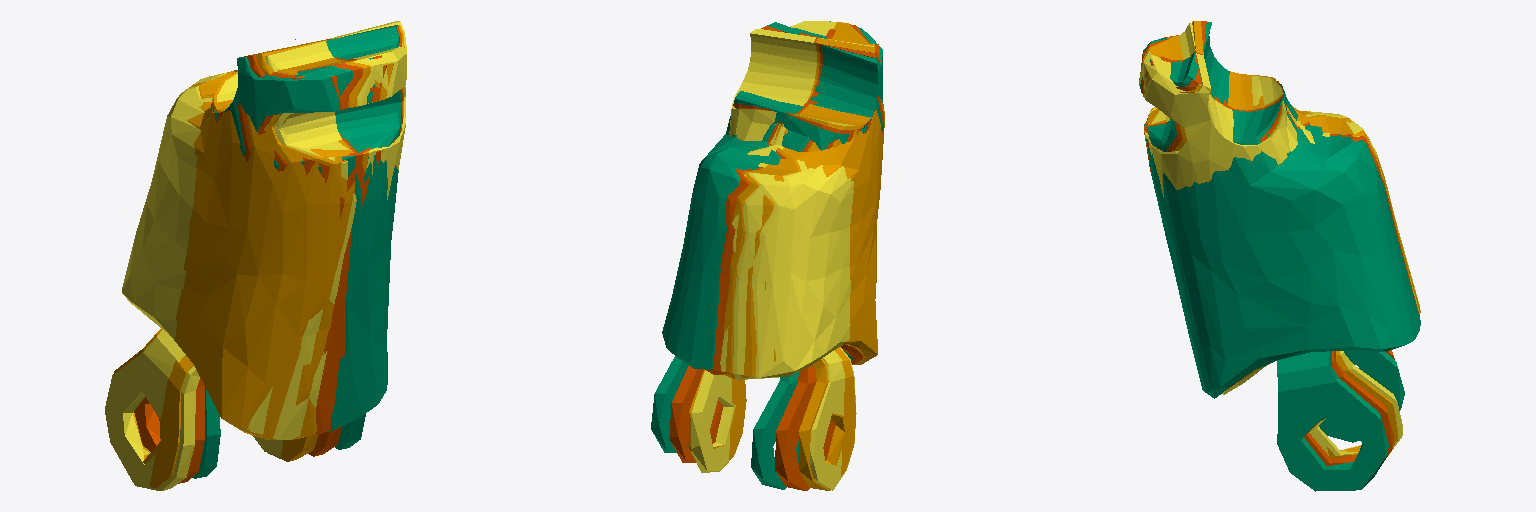
robot.urdf — ability_hand:
<!--
	NOTES:
	Units:
		Distance: m
		Angles: rad (only option)
		Mass: kg
		Inertia: kg*m^2
		
	Notes on intertia:
		-The inertias are calculated for uniform density with weights that may or may not be accurate.
		At the time of this writing only the thumb flexor weight is correct. The palm is a 'best guess' 
		approximation and the fingers are likely off by an order of magnitude
	
	Notes on finger q2:
		-The hand is a 4 bar linkage mechanism forming an 'X'. 4 bar linkages are not supported in the 
		urdf format. The motion of the second finger joint is fully defined by the motion of the first 
		finger joint. The calculation to find the index finger second joint angle given the first is provided
		in a matlab script elsewhere in this repository.
-->
<robot name="ability_hand">


	<link name="base">
		<visual name="wrist_mesh">
			<origin rpy = "0 0 0" xyz = "0 0 0"/>
			<geometry>
				<mesh filename="models/wristmesh.STL"/>
			</geometry>
		</visual>		
		<inertial>	<!-- the mass and inertia here are NOT correct -->
			<mass value = "0.200"/>
			<inertia ixx="978.26e-6" ixy = "87.34e-6" ixz = "322.99e-6" iyy = "1244.78e-6" iyz = "244.74e-6" izz = "456.22e-6" />
			<origin xyz = "22.41911e-3 -0.15798201e-3 -0.01319866e-3" rpy = "0 0 0"/>
		</inertial>
	</link>
	<joint name="wrist2thumb" type="fixed">
		<parent link="base"/>
		<child link="thumb_base"/>
		<origin xyz = "-24.0476665e-3 3.78124745e-3 32.32964923e-3" rpy = "3.14148426 -0.08848813 -3.14036612"/>
	</joint>
  
	<link name="thumb_base" >
		<inertial>
			<mass value = "0.200"/>
			<inertia ixx="978.26e-6" ixy = "87.34e-6" ixz = "322.99e-6" iyy = "1244.78e-6" iyz = "244.74e-6" izz = "456.22e-6" />
			<origin xyz = "22.41911e-3 -0.15798201e-3 -0.01319866e-3" rpy = "0 0 0"/>
		</inertial>
						
		<visual name="palm_mesh">
			<origin rpy = "0 0 0" xyz = "0 0 0"/>
			<geometry>
				<mesh filename="models/FB_palm_ref_MIR.STL"/>
			</geometry>
		</visual>		
	</link>
	

	
	<link name="index_L1" >
		<inertial>
			<mass value = "0.00635888"/>
			<inertia ixx="0.29766e-6" ixy = "-0.06447133e-6" ixz = "-0.00423315e-6" iyy = "3.6947967e-6" iyz = "0.00083028e-6" izz = "3.8176336e-6" />
			<origin xyz = "22.41911e-3 -0.15798201e-3 -0.01319866e-3" rpy = "0 0 0"/>
		</inertial>
		<visual name="index_mesh_1">
			<origin rpy = "0 0 0" xyz = "0 0 0"/>
			<geometry>
				<mesh filename="models/idx-F1.STL"/>
			</geometry>
		</visual>
	</link>
	<link name="index_L2" >
		<inertial>
			<mass value = "0.00645"/>
			<inertia ixx="0.82671e-6" ixy = "-1.08876e-6" ixz = "-0.00037e-6" iyy = "1.98028e-6" iyz = "0.00081e-6" izz = "2.64638e-6" />
			<origin rpy = "0 0 0" xyz = "13.36818e-3 -8.75392e-3 -0.02886e-3"/>
		</inertial>		
		<visual name="index_mesh_2">
			<origin rpy = "0 0 0" xyz = "0 0 0"/>
			<geometry>
				<mesh filename="models/idx-F2-Lg.STL"/>
			</geometry>
		</visual>
	</link>
	<joint name="index_q1" type="revolute">
		<parent link="thumb_base"/>
		<child link="index_L1"/>
		<origin xyz = " 9.49e-3 -13.04e-3 -62.95e-3 " rpy = " -1.1595426535897932 1.284473 -1.0510016535897932 " />
		<axis xyz="0 0 1"/>
		<limit lower = "0" upper = "2.0943951" effort = "6.0" velocity = "8.0677777442"/>		<!-- angles in rad, efforts in N-m, velocity in rad/s -->
		<dynamics damping = "0.001" friction = "0.001" />	<!-- Friction coefficient is not from quantitative measurement -->
	</joint>
	<joint name="index_q2" type="revolute">
		<parent link="index_L1"/>
		<child link="index_L2"/>
		<origin xyz = "38.472723e-3 3.257695e-3 0.000000e-3" rpy = "0 0 0.084474"/>
		<axis xyz="0 0 1"/>
		<limit lower = "0.0" upper = "2.6586" effort = "6.0" velocity = "8.0677777442"/>		<!-- angles in rad, efforts in N-m, velocity in rad/s -->
		<dynamics damping = "0.001" friction = "0.001" />	<!-- Friction coefficient is not from quantitative measurement -->
		<mimic joint = "index_q1" multiplier =  "1.05851325" offset = "0.72349796"/>
	</joint>
	<link name="index_anchor"/>
	<joint name="idx_anchor" type="fixed">
		<parent link = "index_L2"/>
		<child link = "index_anchor"/>
		<origin rpy = "0 0 0" xyz = "31.5541e-3  -10.44e-3 0.14e-3"/>
	</joint>
	

	<link name="middle_L1" >
		<inertial>
			<mass value = "0.00635888"/>
			<inertia ixx="0.29766e-6" ixy = "-0.06447133e-6" ixz = "-0.00423315e-6" iyy = "3.6947967e-6" iyz = "0.00083028e-6" izz = "3.8176336e-6" />
			<origin xyz = "22.41911e-3 -0.15798201e-3 -0.01319866e-3" rpy = "0 0 0"/>
		</inertial>
		
		<visual name="middle_mesh_1">
			<origin rpy = "0 0 0" xyz = "0 0 0"/>
			<geometry>
				<mesh filename="models/idx-F1.STL"/>
			</geometry>
		</visual>
		
	</link>
	<link name="middle_L2" >
		<inertial>
			<mass value = "0.00645"/>
			<inertia ixx="0.82671e-6" ixy = "-1.08876e-6" ixz = "-0.00037e-6" iyy = "1.98028e-6" iyz = "0.00081e-6" izz = "2.64638e-6" />
			<origin rpy = "0 0 0" xyz = "13.36818e-3 -8.75392e-3 -0.02886e-3"/>
		</inertial>
		<visual name="middle_mesh_2">
			<origin rpy = "0 0 0" xyz = "0 0 0"/>
			<geometry>
				<mesh filename="models/idx-F2-Lg.STL"/>
			</geometry>
		</visual>
	</link>
	<joint name="middle_q1" type="revolute">
		<parent link="thumb_base"/>
		<child link="middle_L1"/>
		<origin xyz = " -9.653191e-3 -15.310271e-3 -67.853949e-3 " rpy = " -1.2810616535897934 1.308458 -1.2453756535897933 " />
		<limit lower = "0" upper = "2.0943951" effort = "6.0" velocity = "8.0677777442"/>		<!-- angles in rad, efforts in N-m, velocity in rad/s -->
		<dynamics damping = "0.001" friction = "0.001" />	<!-- Friction coefficient is not from quantitative measurement -->
		<axis xyz="0 0 1"/>
	</joint>
	<joint name="middle_q2" type="revolute">
		<parent link="middle_L1"/>
		<child link="middle_L2"/>
		<origin xyz = "38.472723e-3 3.257695e-3 0.000000" rpy = "0 0 0.084474"/>
		<axis xyz="0 0 1"/>
		<limit lower = "0.0" upper = "2.6586" effort = "6.0" velocity = "8.0677777442"/>		<!-- angles in rad, efforts in N-m, velocity in rad/s -->
		<dynamics damping = "0.001" friction = "0.001" />	<!-- Friction coefficient is not from quantitative measurement -->
		<mimic joint = "middle_q1" multiplier =  "1.05851325" offset = "0.72349796"/>
	</joint>
	<link name="middle_anchor"/>
	<joint name="mid_anchor" type="fixed">
		<parent link = "middle_L2"/>
		<child link = "middle_anchor"/>
		<origin rpy = "0 0 0" xyz = "31.5541e-3  -10.44e-3 0.14e-3"/>
	</joint>





	<link name="ring_L1" >
		<inertial>
			<mass value = "0.00635888"/>
			<inertia ixx="0.29766e-6" ixy = "-0.06447133e-6" ixz = "-0.00423315e-6" iyy = "3.6947967e-6" iyz = "0.00083028e-6" izz = "3.8176336e-6" />
			<origin xyz = "22.41911e-3 -0.15798201e-3 -0.01319866e-3" rpy = "0 0 0"/>
		</inertial>
		
		<visual name="ring_mesh_1">
			<origin rpy = "0 0 0" xyz = "0 0 0"/>
			<geometry>
				<mesh filename="models/idx-F1.STL"/>
			</geometry>
		</visual>
	</link>
	<link name="ring_L2" >
		<inertial>
			<mass value = "0.00645"/>
			<inertia ixx="0.82671e-6" ixy = "-1.08876e-6" ixz = "-0.00037e-6" iyy = "1.98028e-6" iyz = "0.00081e-6" izz = "2.64638e-6" />
			<origin rpy = "0 0 0" xyz = "13.36818e-3 -8.75392e-3 -0.02886e-3"/>
		</inertial>
		<visual name="ring_mesh_2">
			<origin rpy = "0 0 0" xyz = "0 0 0"/>
			<geometry>
				<mesh filename="models/idx-F2-Lg.STL"/>
			</geometry>
		</visual>		
	</link>
	<joint name="ring_q1" type="revolute">
		<parent link="thumb_base"/>
		<child link="ring_L1"/>
		<origin xyz = " -29.95426e-3 -14.212492e-3 -67.286105e-3 " rpy = " -1.424994653589793 1.321452 -1.4657306535897934 " />
		<limit lower = "0" upper = "2.0943951" effort = "6.0" velocity = "8.0677777442"/>		<!-- angles in rad, efforts in N-m, velocity in rad/s -->
		<dynamics damping = "0.001" friction = "0.001" />	<!-- Friction coefficient is not from quantitative measurement -->
		<axis xyz="0 0 1"/>
	</joint>
	<joint name="ring_q2" type="revolute">
		<parent link="ring_L1"/>
		<child link="ring_L2"/>
		<origin xyz = "38.472723e-3 3.257695e-3 0.000000" rpy = "0 0 0.084474"/>
		<axis xyz="0 0 1"/>
		<limit lower = "0.0" upper = "2.6586" effort = "6.0" velocity = "8.0677777442"/>		<!-- angles in rad, efforts in N-m, velocity in rad/s -->
		<dynamics damping = "0.001" friction = "0.001" />	<!-- Friction coefficient is not from quantitative measurement -->
		<mimic joint = "ring_q1" multiplier =  "1.05851325" offset = "0.72349796"/>
	</joint>
	<link name="ring_anchor"/>
	<joint name="rng_anchor" type="fixed">
		<parent link = "ring_L2"/>
		<child link = "ring_anchor"/>
		<origin rpy = "0 0 0" xyz = "31.5541e-3  -10.44e-3 0.14e-3"/>
	</joint>







	<link name="pinky_L1" >
		<inertial>
			<mass value = "0.00635888"/>
			<inertia ixx="0.29766e-6" ixy = "-0.06447133e-6" ixz = "-0.00423315e-6" iyy = "3.6947967e-6" iyz = "0.00083028e-6" izz = "3.8176336e-6" />
			<origin xyz = "22.41911e-3 -0.15798201e-3 -0.01319866e-3" rpy = "0 0 0"/>
		</inertial>
		
		<visual name="pinky_mesh_1">
			<origin rpy = "0 0 0" xyz = "0 0 0"/>
			<geometry>
				<mesh filename="models/idx-F1.STL"/>
			</geometry>
		</visual>
		
	</link>
	<link name="pinky_L2" >
		<inertial>
			<mass value = "0.00645"/>
			<inertia ixx="0.82671e-6" ixy = "-1.08876e-6" ixz = "-0.00037e-6" iyy = "1.98028e-6" iyz = "0.00081e-6" izz = "2.64638e-6" />
			<origin rpy = "0 0 0" xyz = "13.36818e-3 -8.75392e-3 -0.02886e-3"/>
		</inertial>
		<visual name="pinky_mesh_2">
			<origin rpy = "0 0 0" xyz = "0 0 0"/>
			<geometry>
				<mesh filename="models/idx-F2-Lg.STL"/>
			</geometry>
		</visual>
		
	</link>
	<joint name="pinky_q1" type="revolute">
		<parent link="thumb_base"/>
		<child link="pinky_L1"/>
		<origin xyz = " -49.521293e-3 -11.004583e-3 -63.029065e-3 " rpy = " -1.3764826535897934 1.32222 -1.4832096535897932 " />
		<limit lower = "0" upper = "2.0943951" effort = "6.0" velocity = "8.0677777442"/>		<!-- angles in rad, efforts in N-m, velocity in rad/s -->
		<dynamics damping = "0.001" friction = "0.001" />	<!-- Friction coefficient is not from quantitative measurement -->
		<axis xyz="0 0 1"/>
	</joint>
	<joint name="pinky_q2" type="revolute">
		<parent link="pinky_L1"/>
		<child link="pinky_L2"/>
		<origin xyz = "38.472723e-3 3.257695e-3 0.000000" rpy = "0 0 0.084474"/>
		<limit lower = "0.0" upper = "2.6586" effort = "6.0" velocity = "8.0677777442"/>		<!-- angles in rad, efforts in N-m, velocity in rad/s -->
		<dynamics damping = "0.001" friction = "0.001" />	<!-- Friction coefficient is not from quantitative measurement -->
		<axis xyz="0 0 1"/>
		<mimic joint = "pinky_q1" multiplier =  "1.05851325" offset = "0.72349796"/>
	</joint>
	<link name="pinky_anchor"/>
	<joint name="pnky_anchor" type="fixed">
		<parent link = "pinky_L2"/>
		<child link = "pinky_anchor"/>
		<origin rpy = "0 0 0" xyz = "31.5541e-3  -10.44e-3 0.14e-3"/>
	</joint>






	<link name="thumb_L1" >
		<inertial>
			<mass value = "0.00268342"/>
			<inertia ixx="0.16931e-6" ixy = "-0.076214e-6" ixz = "-0.16959148e-6" iyy = "0.77769934e-6" iyz = "0.0156622e-6" izz = "0.7249122e-6" />
			<origin rpy = "0 0 0" xyz = "14.606e-3 -1.890854e-3 -3.1155356e-3"/>
		</inertial>
		
		<visual name="thumb_mesh_1">
			<origin rpy = "0 0 0" xyz = "0 0 0"/>
			<geometry>
				<mesh filename="models/thumb-F1-MIR.STL"/>
			</geometry>
		</visual>
		
	</link>
	<link name="thumb_L2" >
		<inertial>
			<mass value = "0.0055"/>
			<inertia ixx="4.4789082e-6" ixy = "4.4789082e-6" ixz = "-0.62144934e-6" iyy = "15.600996e-6" iyz = "-0.07466143e-6" izz = "17.908554e-6" />
			<origin rpy = "0 0 0" xyz = "30.020522e-3 5.59476e-3 -4.1504356e-3"/>
		</inertial>
		
		<visual name="thumb_mesh_2">
			<origin rpy = "0 0 0" xyz = "0 0 0"/>
			<geometry>
				<mesh filename="models/thumb-F2-right.STL"/>
			</geometry>
		</visual>
		
	</link>
	<joint name="thumb_q1" type="revolute">
		<parent link="thumb_base"/>
		<child link="thumb_L1"/>
		<origin xyz = " 0.0 0.0 0.0 " rpy = " 3.141592653589793 -0.0 -0.18884434641020664 " />
		<axis xyz="0 0 1"/>
		<limit lower = "-2.0943951" upper = "0" effort = "1.2" velocity = "40.338888721"/>		<!-- angles in rad, efforts in N-m, velocity in rad/s -->
		<dynamics damping = "0.001" friction = "0.001" />	<!-- Friction coefficient is not from quantitative measurement -->
	</joint>
	<joint name="thumb_q2" type="revolute">
		<parent link="thumb_L1"/>
		<child link="thumb_L2"/>
		<origin xyz = " 27.8283501e-3 1.7436510745838653e-19 14.7507e-3 " rpy = " 1.832595714594045 -0.0 5.366520605522463e-18 " />
		<axis xyz="0 0 1"/>
		<limit lower = "0" upper = "2.0943951" effort = "6.0" velocity = "8.0677777442"/>		<!-- angles in rad, efforts in N-m, velocity in rad/s -->
		<dynamics damping = "0.001" friction = "0.001" />	<!-- Friction coefficient is not from quantitative measurement -->		
	</joint>
	<link name="thumb_anchor"/>
	<joint name="thmb_anchor" type="fixed">
		<parent link = "thumb_L2"/>
		<child link = "thumb_anchor"/>
		<origin rpy = "0 0 0" xyz = "52.00122724e-3 28.00869333e-3 6.98483578e-3"/>
	</joint>




	<sensor name="fsr1">

		<parent link = "index_L2"/>

		<origin xyz = "[ 0.03678129 -0.01966348  0.        ]" rpy = "[-1.57079633  1.11908681 -1.57079633]"/>

	</sensor>


	<sensor name="fsr2">

		<parent link = "index_L2"/>

		<origin xyz = "[ 0.03087755 -0.01531625  0.        ]" rpy = "[ 1.57079633 -0.25241514  1.57079633]"/>

	</sensor>


	<sensor name="fsr3">

		<parent link = "index_L2"/>

		<origin xyz = "[ 0.03118107 -0.01775288  0.004     ]" rpy = "[-1.57079633  0.51757639 -1.57079633]"/>

	</sensor>


	<sensor name="fsr4">

		<parent link = "index_L2"/>

		<origin xyz = "[ 0.01680497 -0.01308243  0.004     ]" rpy = "[-1.57079633  0.66148388 -1.57079633]"/>

	</sensor>


	<sensor name="fsr5">

		<parent link = "index_L2"/>

		<origin xyz = "[ 0.03118107 -0.01775288 -0.004     ]" rpy = "[-1.57079633  0.51757639 -1.57079633]"/>

	</sensor>


	<sensor name="fsr6">

		<parent link = "index_L2"/>

		<origin xyz = "[ 0.01680497 -0.01308243 -0.004     ]" rpy = "[-1.57079633  0.66148388 -1.57079633]"/>

	</sensor>


	<sensor name="fsr7">

		<parent link = "middle_L2"/>

		<origin xyz = "[ 0.03678129 -0.01966348  0.        ]" rpy = "[-1.57079633  1.11908681 -1.57079633]"/>

	</sensor>


	<sensor name="fsr8">

		<parent link = "middle_L2"/>

		<origin xyz = "[ 0.03087755 -0.01531625  0.        ]" rpy = "[ 1.57079633 -0.25241514  1.57079633]"/>

	</sensor>


	<sensor name="fsr9">

		<parent link = "middle_L2"/>

		<origin xyz = "[ 0.03118107 -0.01775288  0.004     ]" rpy = "[-1.57079633  0.51757639 -1.57079633]"/>

	</sensor>


	<sensor name="fsr10">

		<parent link = "middle_L2"/>

		<origin xyz = "[ 0.01680497 -0.01308243  0.004     ]" rpy = "[-1.57079633  0.66148388 -1.57079633]"/>

	</sensor>


	<sensor name="fsr11">

		<parent link = "middle_L2"/>

		<origin xyz = "[ 0.03118107 -0.01775288 -0.004     ]" rpy = "[-1.57079633  0.51757639 -1.57079633]"/>

	</sensor>


	<sensor name="fsr12">

		<parent link = "middle_L2"/>

		<origin xyz = "[ 0.01680497 -0.01308243 -0.004     ]" rpy = "[-1.57079633  0.66148388 -1.57079633]"/>

	</sensor>


	<sensor name="fsr13">

		<parent link = "ring_L2"/>

		<origin xyz = "[ 0.03678129 -0.01966348  0.        ]" rpy = "[-1.57079633  1.11908681 -1.57079633]"/>

	</sensor>


	<sensor name="fsr14">

		<parent link = "ring_L2"/>

		<origin xyz = "[ 0.03087755 -0.01531625  0.        ]" rpy = "[ 1.57079633 -0.25241514  1.57079633]"/>

	</sensor>


	<sensor name="fsr15">

		<parent link = "ring_L2"/>

		<origin xyz = "[ 0.03118107 -0.01775288  0.004     ]" rpy = "[-1.57079633  0.51757639 -1.57079633]"/>

	</sensor>


	<sensor name="fsr16">

		<parent link = "ring_L2"/>

		<origin xyz = "[ 0.01680497 -0.01308243  0.004     ]" rpy = "[-1.57079633  0.66148388 -1.57079633]"/>

	</sensor>


	<sensor name="fsr17">

		<parent link = "ring_L2"/>

		<origin xyz = "[ 0.03118107 -0.01775288 -0.004     ]" rpy = "[-1.57079633  0.51757639 -1.57079633]"/>

	</sensor>


	<sensor name="fsr18">

		<parent link = "ring_L2"/>

		<origin xyz = "[ 0.01680497 -0.01308243 -0.004     ]" rpy = "[-1.57079633  0.66148388 -1.57079633]"/>

	</sensor>


	<sensor name="fsr19">

		<parent link = "pinky_L2"/>

		<origin xyz = "[ 0.03678129 -0.01966348  0.        ]" rpy = "[-1.57079633  1.11908681 -1.57079633]"/>

	</sensor>


	<sensor name="fsr20">

		<parent link = "pinky_L2"/>

		<origin xyz = "[ 0.03087755 -0.01531625  0.        ]" rpy = "[ 1.57079633 -0.25241514  1.57079633]"/>

	</sensor>


	<sensor name="fsr21">

		<parent link = "pinky_L2"/>

		<origin xyz = "[ 0.03118107 -0.01775288  0.004     ]" rpy = "[-1.57079633  0.51757639 -1.57079633]"/>

	</sensor>


	<sensor name="fsr22">

		<parent link = "pinky_L2"/>

		<origin xyz = "[ 0.01680497 -0.01308243  0.004     ]" rpy = "[-1.57079633  0.66148388 -1.57079633]"/>

	</sensor>


	<sensor name="fsr23">

		<parent link = "pinky_L2"/>

		<origin xyz = "[ 0.03118107 -0.01775288 -0.004     ]" rpy = "[-1.57079633  0.51757639 -1.57079633]"/>

	</sensor>


	<sensor name="fsr24">

		<parent link = "pinky_L2"/>

		<origin xyz = "[ 0.01680497 -0.01308243 -0.004     ]" rpy = "[-1.57079633  0.66148388 -1.57079633]"/>

	</sensor>


	<sensor name="fsr25">

		<parent link = "thumb_L2"/>

		<origin xyz = "[0.055422 0.023513 0.005055]" rpy = "[-1.57079633 -0.40123853 -1.57079633]"/>

	</sensor>


	<sensor name="fsr26">

		<parent link = "thumb_L2"/>

		<origin xyz = "[0.047909 0.02312  0.005728]" rpy = "[-1.57079633 -0.44961601 -1.57079633]"/>

	</sensor>


	<sensor name="fsr27">

		<parent link = "thumb_L2"/>

		<origin xyz = "[ 0.048227  0.022352 -0.000805]" rpy = "[-1.57079633 -0.43229053 -1.57079633]"/>

	</sensor>


	<sensor name="fsr28">

		<parent link = "thumb_L2"/>

		<origin xyz = "[ 0.036868  0.017111 -0.001369]" rpy = "[nan nan nan]"/>

	</sensor>


	<sensor name="fsr29">

		<parent link = "thumb_L2"/>

		<origin xyz = "[0.049435 0.019437 0.01097 ]" rpy = "[-1.57079633 -0.44946695 -1.57079633]"/>

	</sensor>


	<sensor name="fsr30">

		<parent link = "thumb_L2"/>

		<origin xyz = "[0.038158 0.013997 0.011211]" rpy = "[nan nan nan]"/>

	</sensor>


</robot>

--- Render facts (derived) ---
The picture shows the robot from 3 angles, left to right: view 1: azimuth 30°, elevation 25°; view 2: azimuth 150°, elevation 25°; view 3: azimuth 270°, elevation 25°; orthographic projection.
Model ability_hand with 17 links and 16 joints (10 revolute, 6 fixed), rooted at base, posed every joint at zero.
Visible links, largest first — view 1: ring_L1, pinky_L1, index_L1, middle_L1; view 2: pinky_L1, index_L1, ring_L1, middle_L1; view 3: index_L1, pinky_L1, ring_L1, middle_L1.
Boxes of the visible links, box(x1,y1,x2,y2) form: ring_L1: box(113, 25, 404, 488); pinky_L1: box(105, 21, 406, 490); index_L1: box(192, 25, 401, 478); middle_L1: box(134, 25, 402, 483); pinky_L1: box(691, 21, 873, 490); index_L1: box(651, 21, 882, 489); ring_L1: box(688, 22, 884, 490); middle_L1: box(669, 24, 883, 490); index_L1: box(1140, 22, 1420, 491); pinky_L1: box(1139, 23, 1419, 455); ring_L1: box(1139, 21, 1420, 458); middle_L1: box(1141, 21, 1419, 468).
Size in the robot's own frame: 20.12 by 28.26 by 45.51 metres.
8 mesh visuals loaded from 6 distinct referenced files (2 binary STL); not drawn: 4 (reference not matched to a file when rendering).